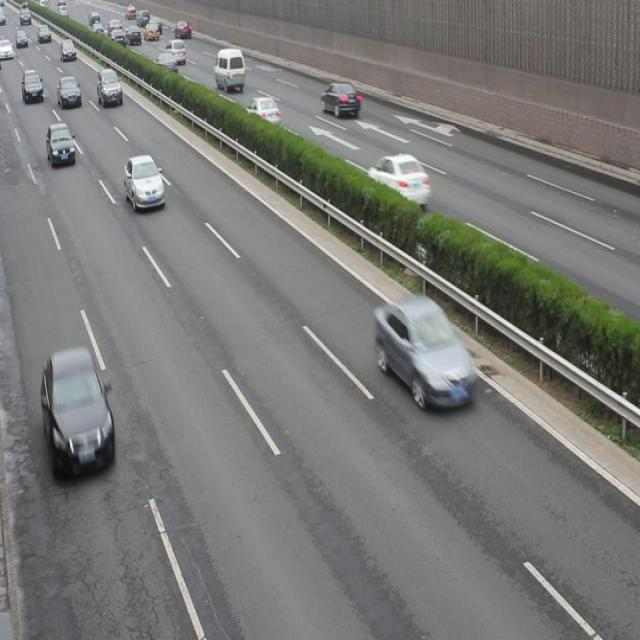car: (374, 291, 475, 408), (40, 348, 116, 478), (367, 151, 428, 209), (124, 152, 166, 214), (320, 79, 360, 121), (244, 95, 280, 134), (47, 122, 77, 168)
truck: (214, 49, 247, 91)
